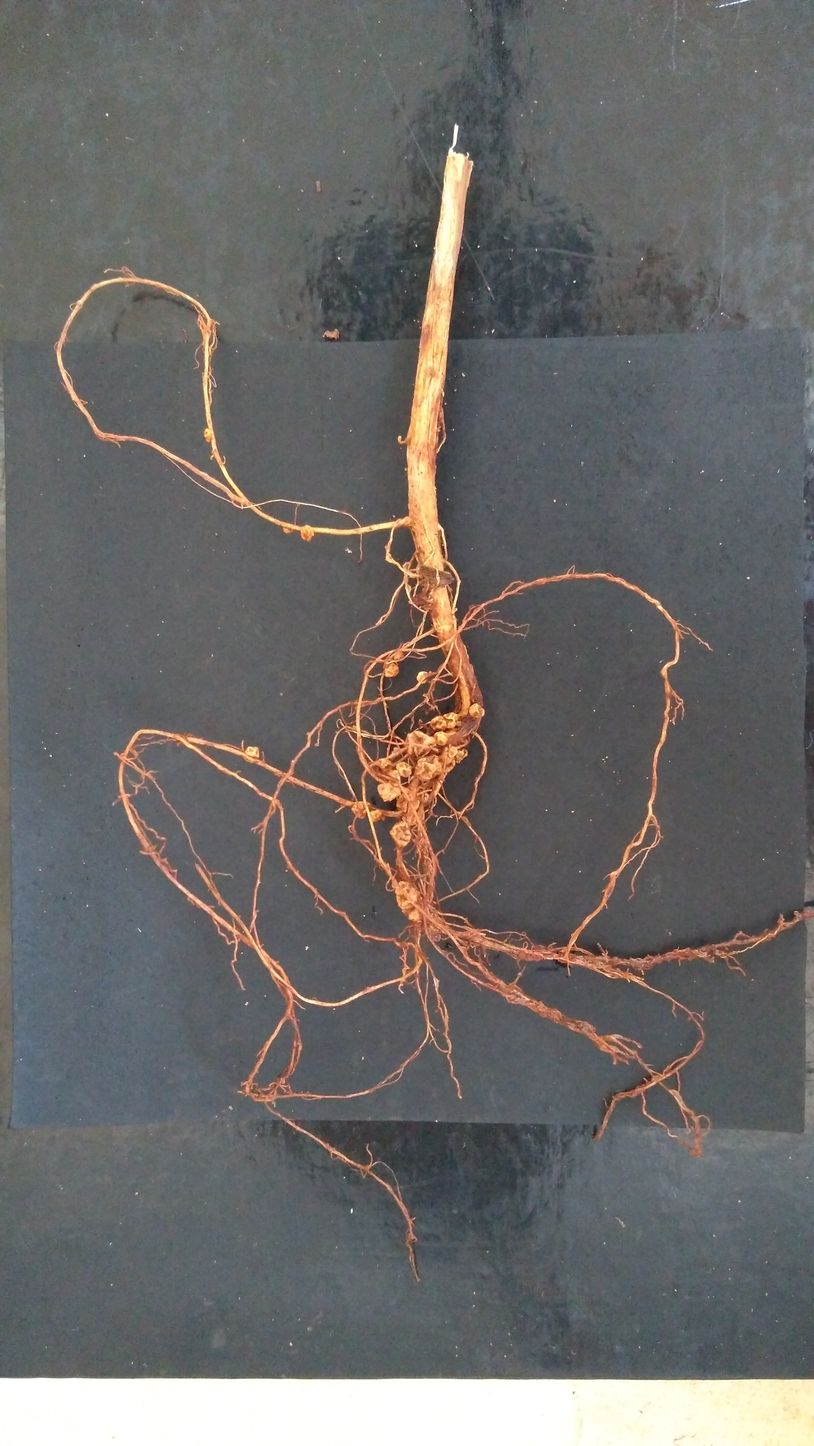nodule: (406, 731, 436, 758), (415, 754, 442, 781), (401, 897, 430, 922), (395, 881, 419, 910), (389, 820, 412, 848), (416, 780, 441, 802), (414, 792, 439, 813), (430, 713, 458, 731), (377, 783, 401, 802), (351, 801, 371, 819), (402, 810, 424, 825), (440, 747, 457, 764), (377, 758, 393, 774), (395, 761, 411, 777), (244, 746, 259, 763), (397, 793, 409, 812), (469, 704, 485, 718), (454, 748, 468, 764), (300, 525, 314, 541), (388, 769, 400, 787), (384, 663, 399, 677), (434, 731, 448, 745), (369, 809, 382, 821), (416, 671, 428, 683), (204, 428, 212, 443), (448, 746, 457, 757), (394, 650, 403, 660), (283, 525, 293, 533), (391, 747, 401, 753)
